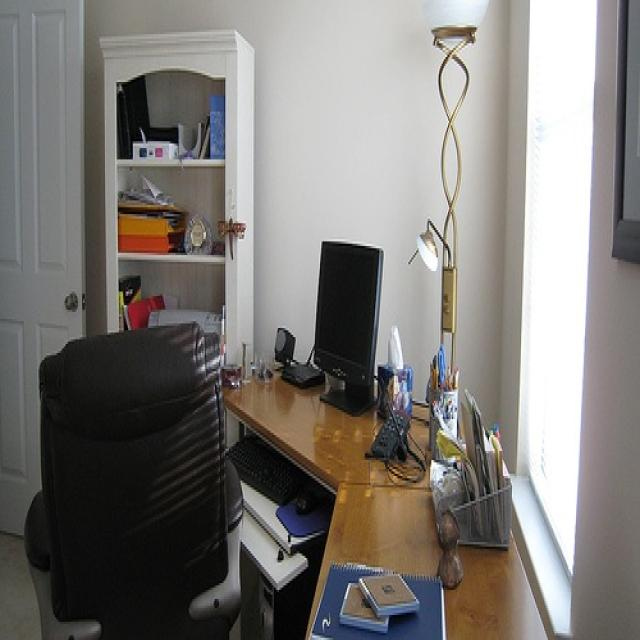chair: (23, 319, 243, 638)
tvmonitor: (314, 239, 384, 415)
